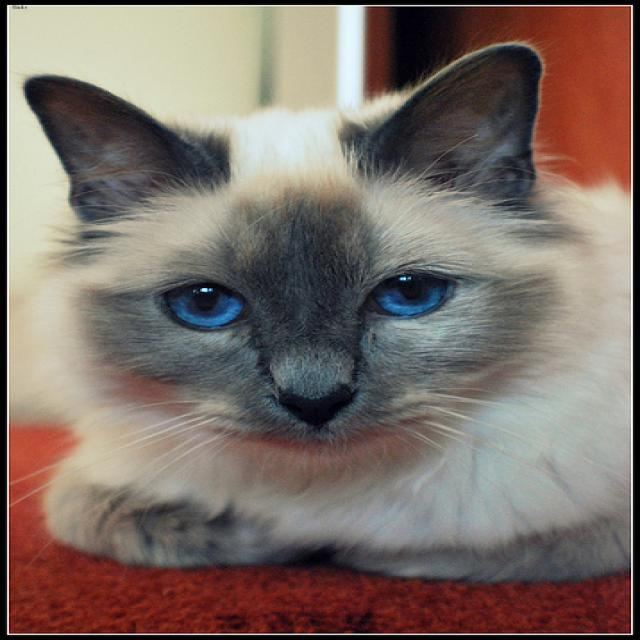Birman: (15, 38, 586, 462)
